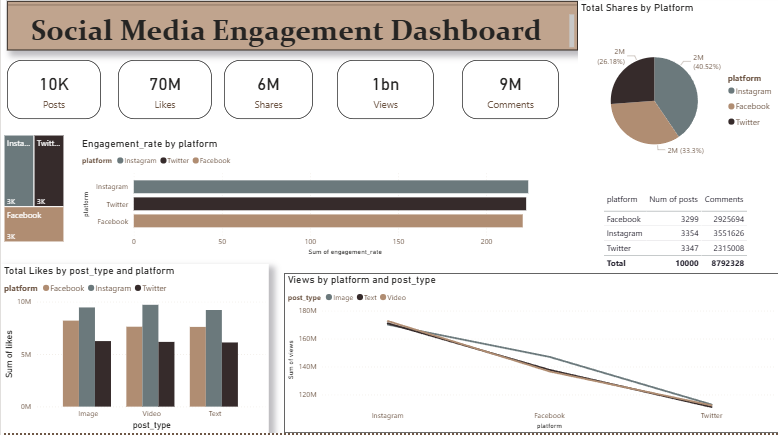

The dashboard page shown, as its layout file describes it:
{"tool":"powerbi","page":{"name":"Page 1","canvas":[1280,720],"ordinal":0},"visuals":[{"type":"textbox","box":[24.6,706.5,279.3,13.1],"z":0},{"type":"textbox","box":[9.9,9.9,938.2,80.5],"z":1000},{"type":"card","fields":{"Values":["in.Num of posts"]},"box":[9.9,106.8,154.5,96.9],"z":2000},{"type":"card","fields":{"Values":["Sum(in.likes)"]},"box":[192.2,106.8,154.5,96.9],"z":3000},{"type":"card","fields":{"Values":["Sum(in.shares)"]},"box":[366.4,106.8,146.2,96.9],"z":4000},{"type":"card","fields":{"Values":["Sum(in.views)"]},"box":[552.1,106.8,159.4,96.9],"z":5000},{"type":"treemap","fields":{"Group":["in.platform"],"Values":["in.Num of posts"]},"box":[0,225.1,108.4,185.7],"z":6000},{"type":"card","fields":{"Values":["Sum(in.comments)"]},"box":[757.5,106.8,159.4,96.9],"z":7000},{"type":"barChart","title":"Engagement_rate by platform ","fields":{"Category":["in.platform"],"Y":["Sum(in.engagement_rate)"],"Series":["in.platform"]},"box":[128.2,233.3,800.2,198.8],"z":8000},{"type":"lineClusteredColumnComboChart","title":"Total Likes by post_type and platform","fields":{"Category":["in.post_type"],"Y":["Sum(in.likes)"],"Series":["in.platform"]},"box":[0,442,440.4,277.7],"z":9000},{"type":"lineChart","title":"Views by platform and post_type","fields":{"Y":["Sum(in.views)"],"Category":["in.platform"],"Series":["in.post_type"]},"box":[465,456.8,815,262.9],"z":10000},{"type":"pieChart","title":"Total Shares by Platform","fields":{"Y":["Sum(in.shares)"],"Category":["in.platform"]},"box":[948.1,9.9,331.9,308.9],"z":11000},{"type":"tableEx","fields":{"Values":["in.platform","in.Num of posts","Sum(in.comments)"]},"box":[984.2,318.8,295.8,138],"z":12000}]}

Visuals, with their boxes in screenshot pixels (x1, y1, x2, y2), scaled from the page's 1280x720 canvas onto the 778x435 screenshot:
textbox: [15,427,185,434]
textbox: [6,6,576,55]
card - in.Num of posts: [6,65,100,123]
card - Sum(in.likes): [117,65,211,123]
card - Sum(in.shares): [223,65,312,123]
card - Sum(in.views): [336,65,432,123]
treemap - in.platform x in.Num of posts: [0,136,66,248]
card - Sum(in.comments): [460,65,557,123]
"Engagement_rate by platform " barChart: [78,141,564,261]
"Total Likes by post_type and platform" lineClusteredColumnComboChart: [0,267,268,434]
"Views by platform and post_type" lineChart: [283,276,777,434]
"Total Shares by Platform" pieChart: [576,6,777,193]
tableEx - in.platform x in.Num of posts: [598,193,777,276]
